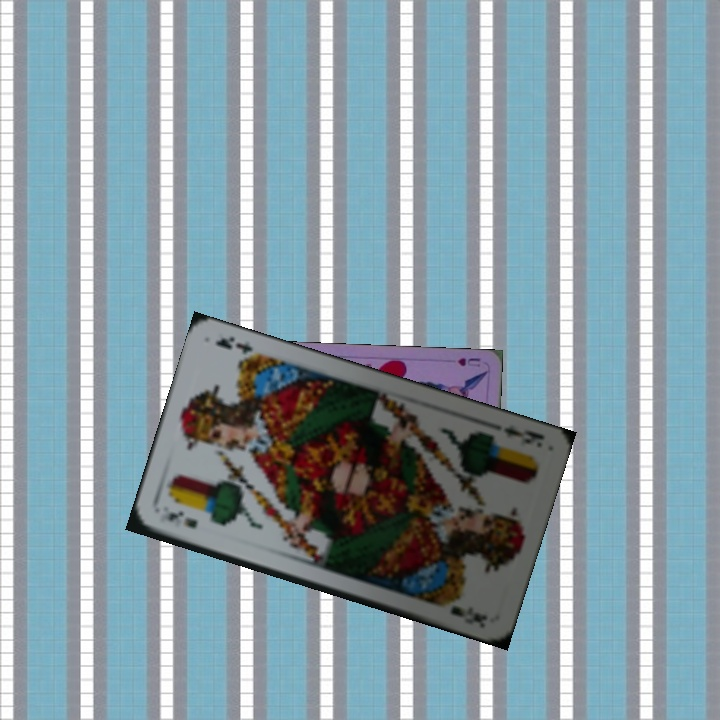EK: (500, 420, 547, 448), (163, 508, 201, 531)
HU: (453, 354, 483, 369)
